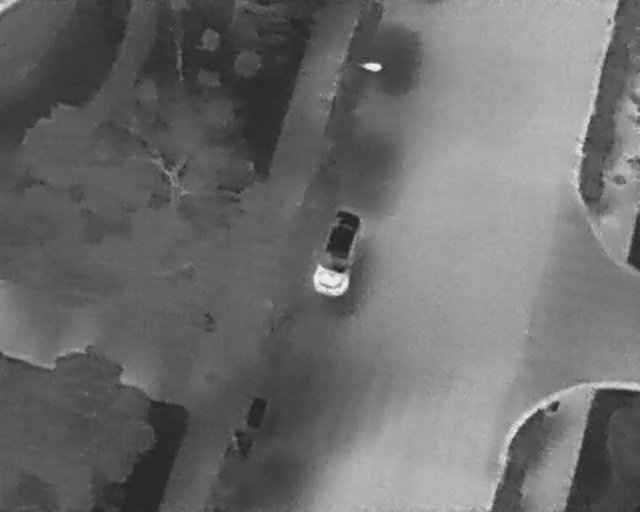Car: (306, 204, 365, 301)
